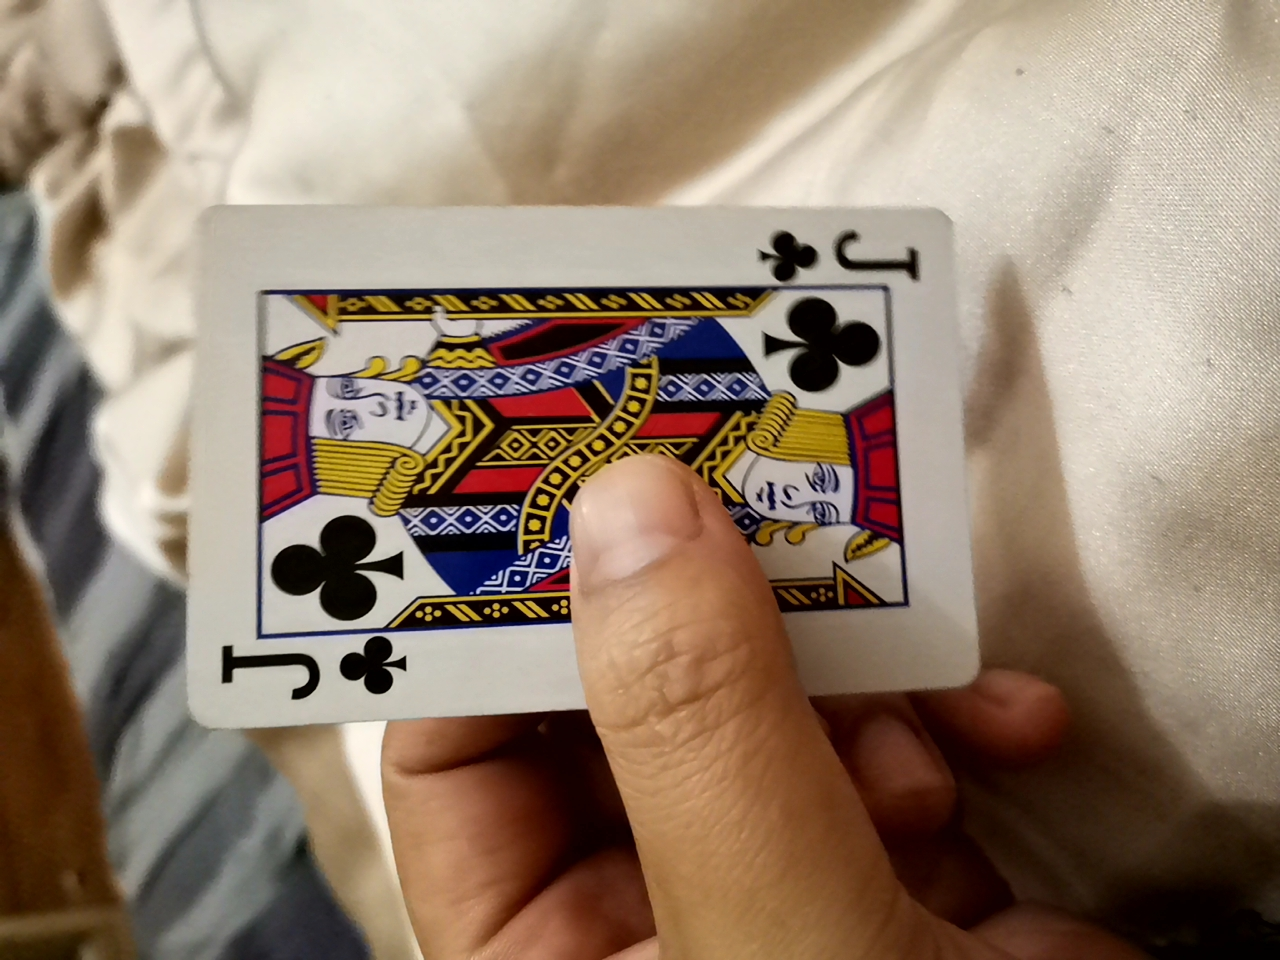mh j: (138, 214, 993, 755)
